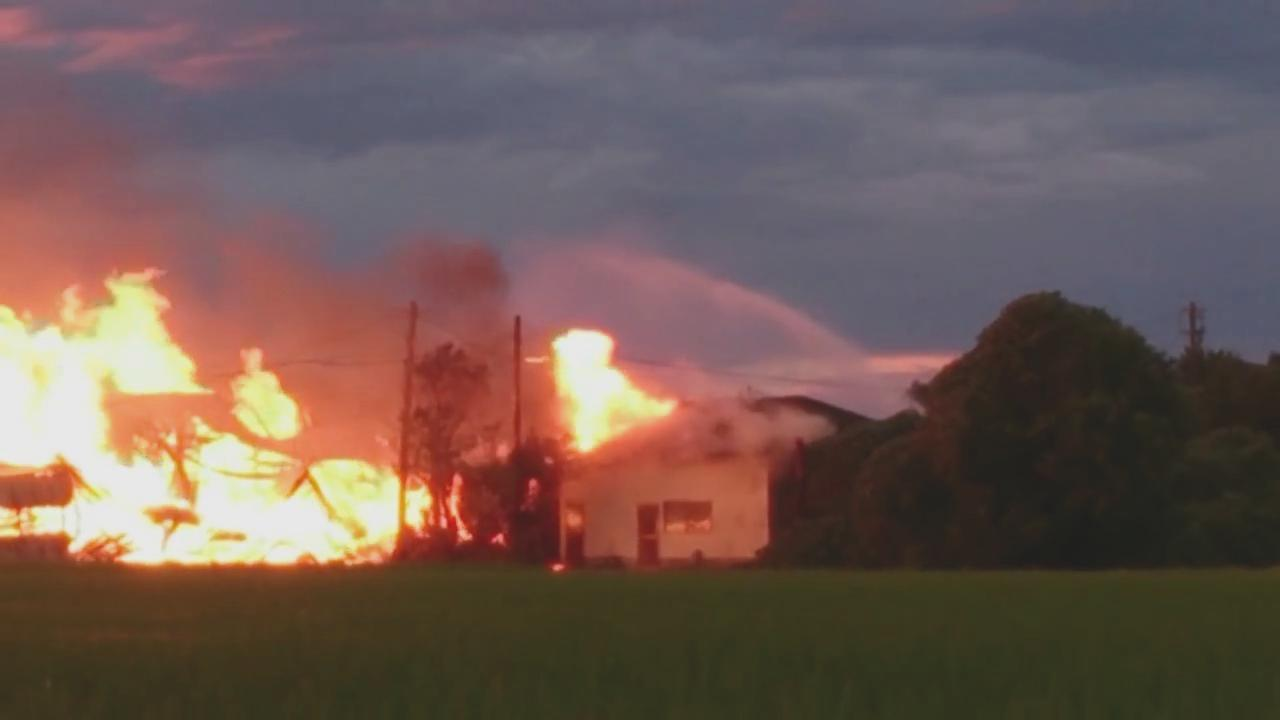Fire: (5, 267, 476, 569), (554, 327, 677, 448)
